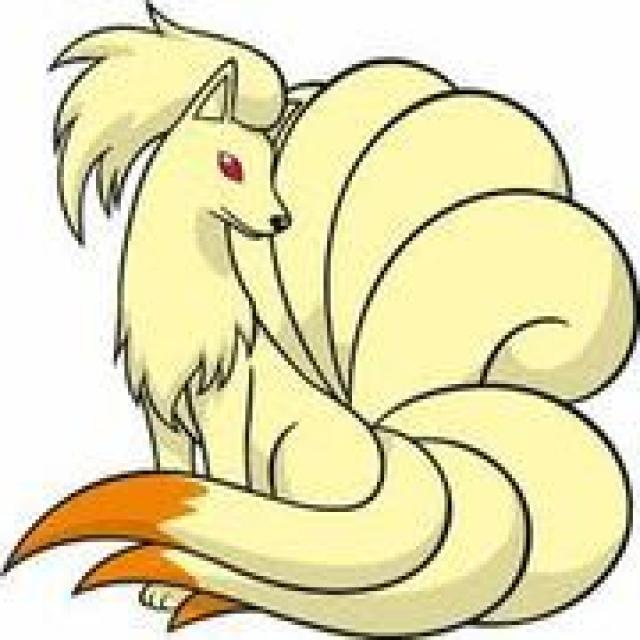Ninetales: (108, 26, 584, 626)
